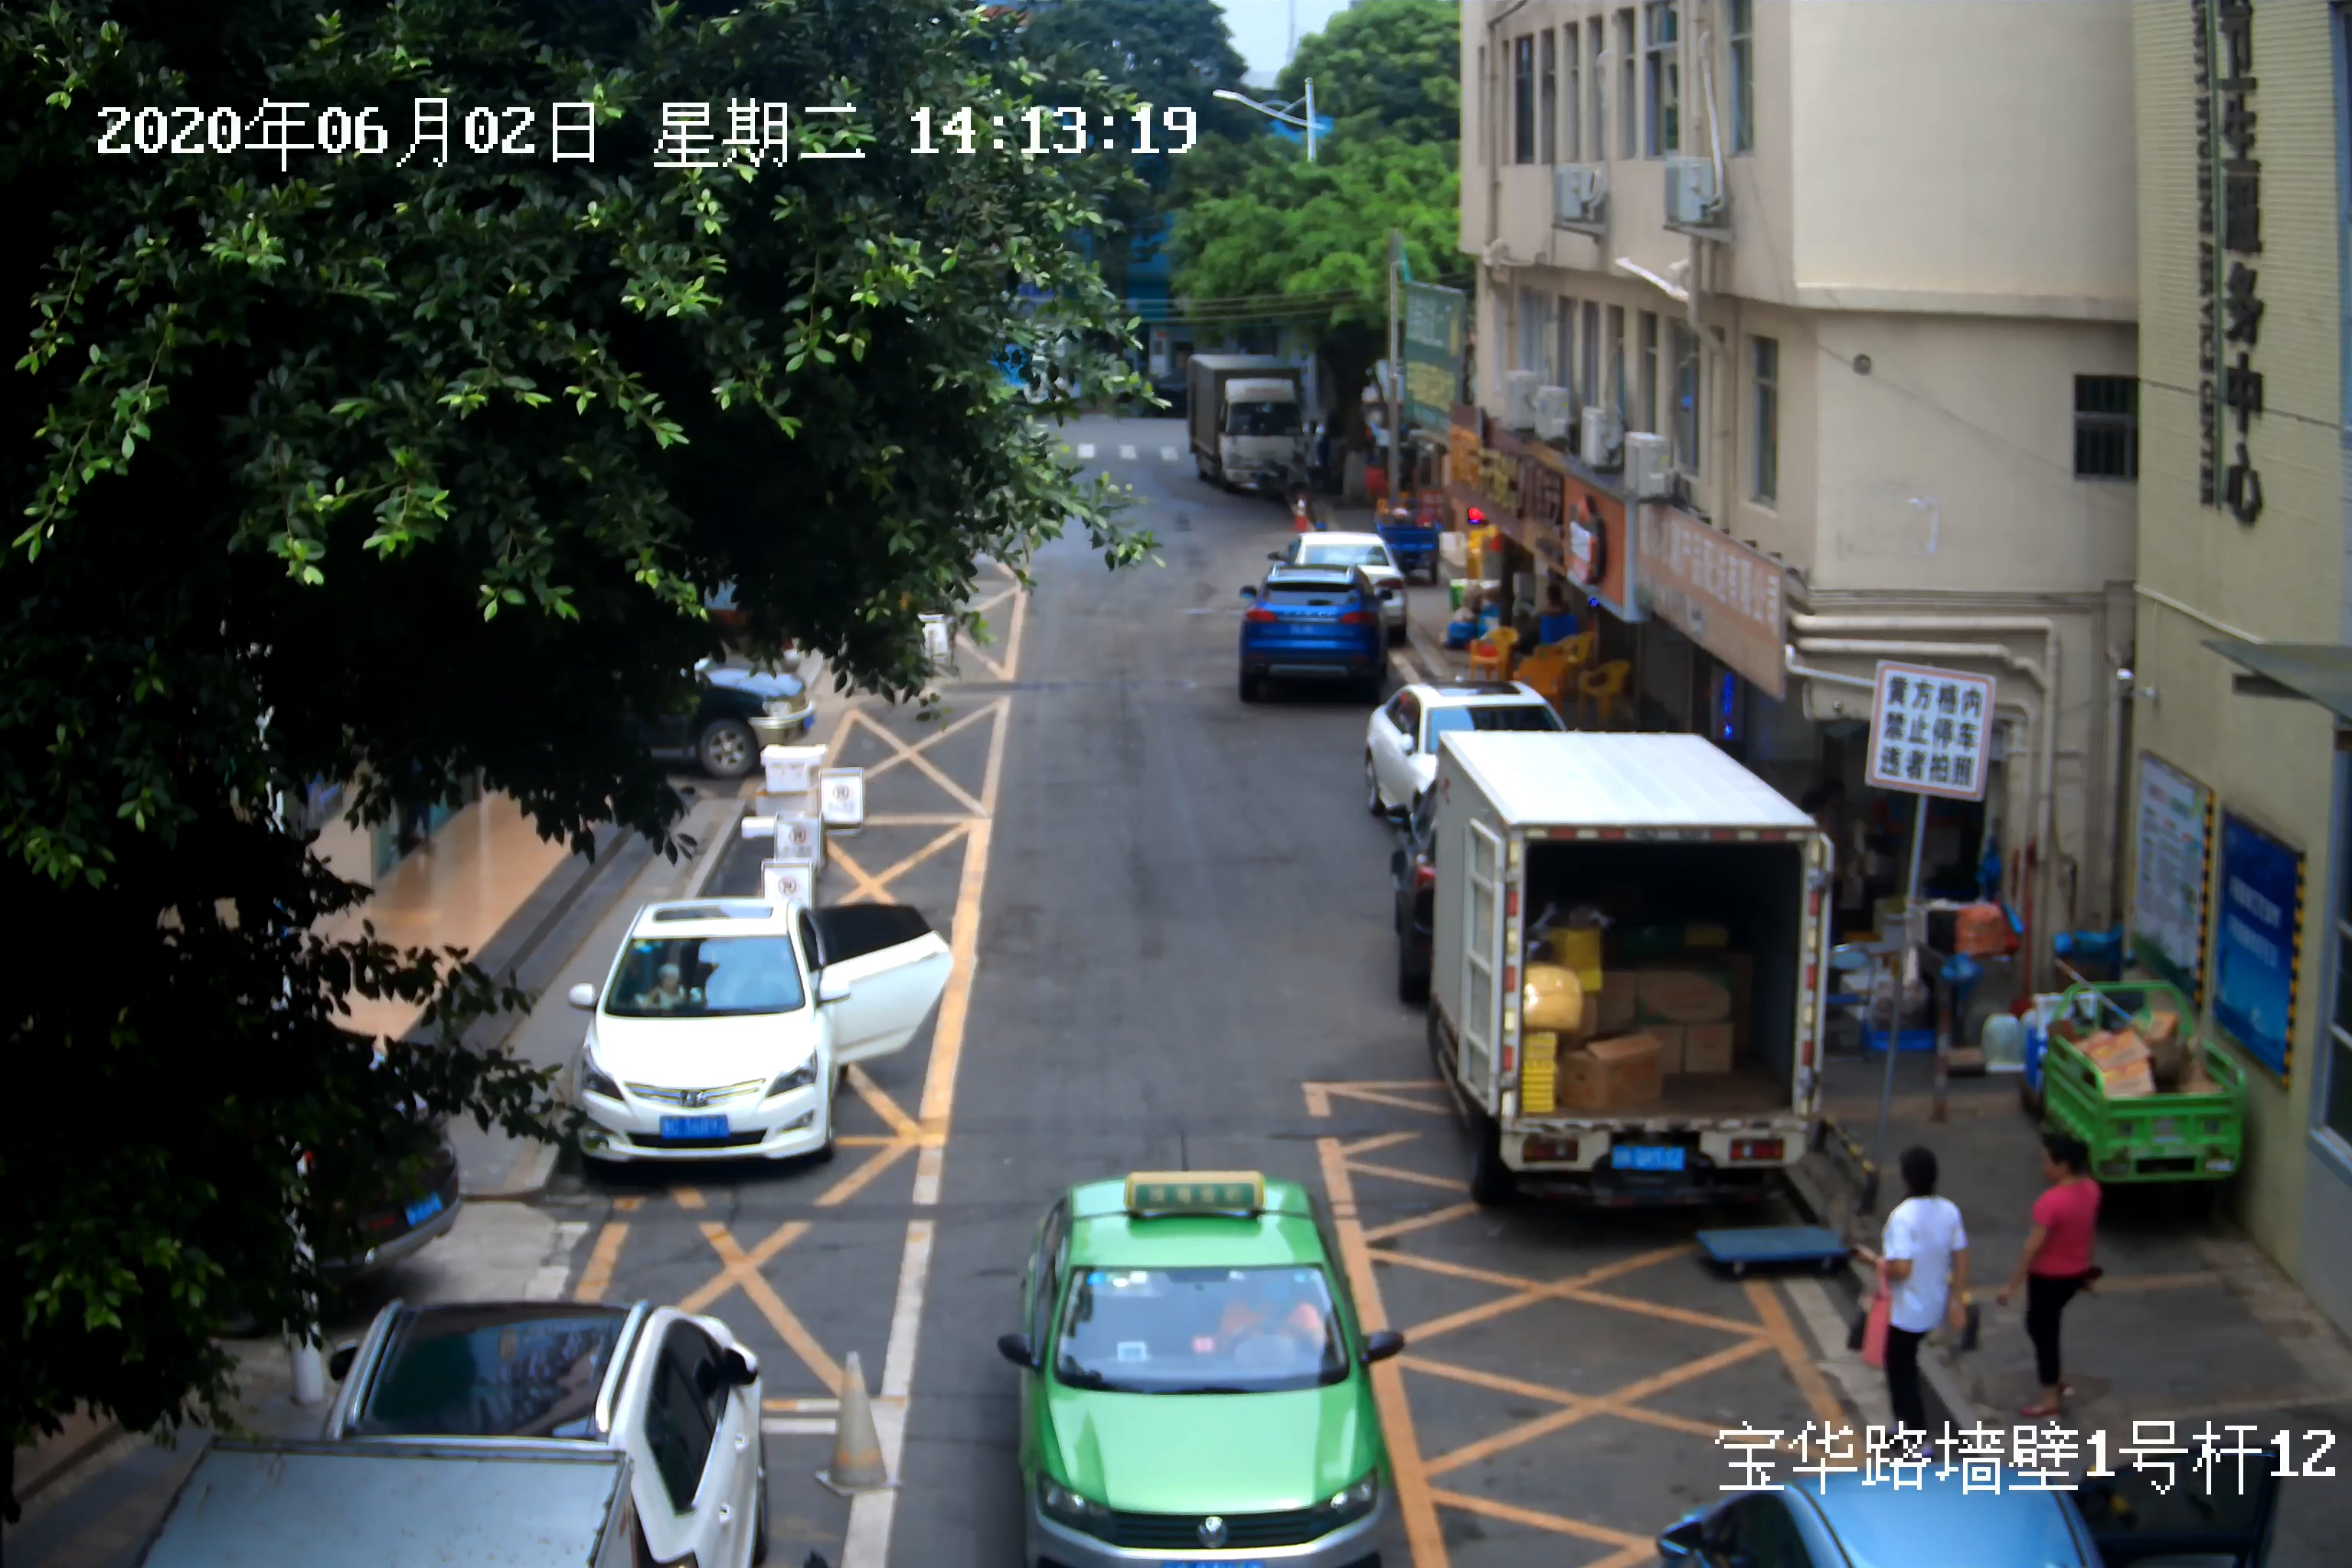chair: (1575, 658, 1631, 723), (1512, 654, 1564, 712), (1468, 625, 1521, 681), (1557, 628, 1594, 677)
